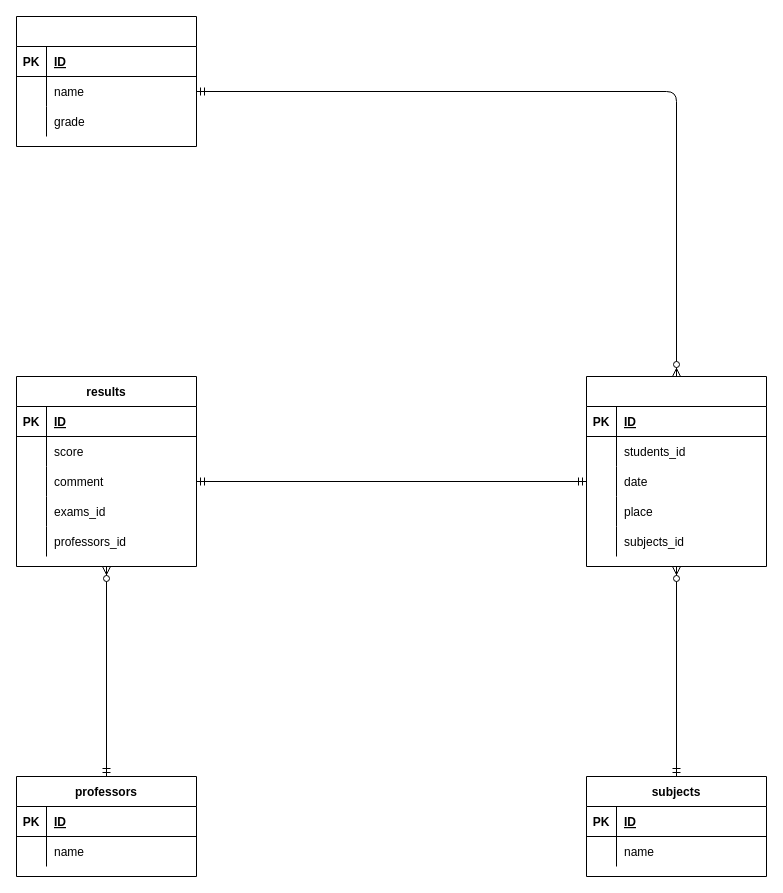
Some shapes in this 783 by 893 pixel diagram are drawn without their labels. Each missing label, with the box of its shape:
exams: (586, 376, 766, 566)
students: (16, 16, 196, 146)
